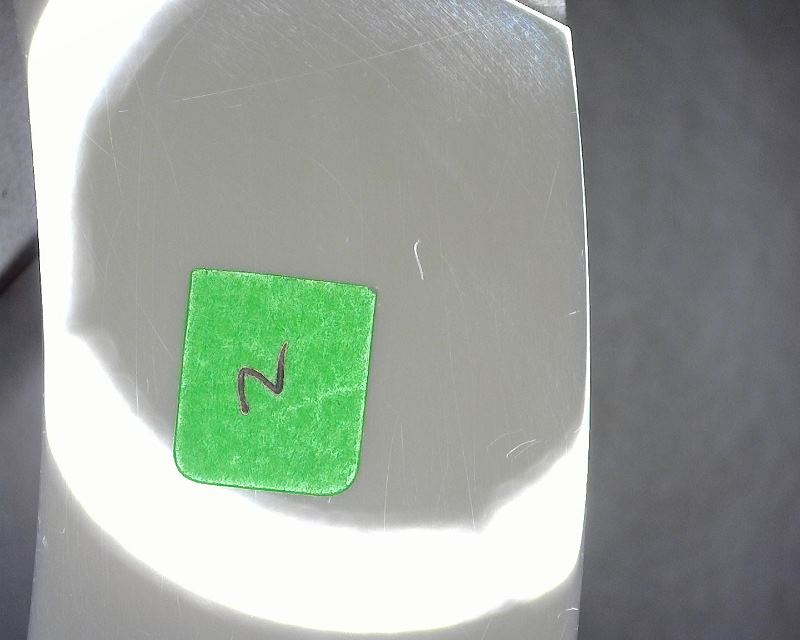scratch: (383, 410, 408, 526), (542, 154, 564, 223), (507, 434, 539, 461), (412, 236, 427, 284), (558, 599, 578, 617), (39, 528, 51, 550), (567, 308, 583, 317)
